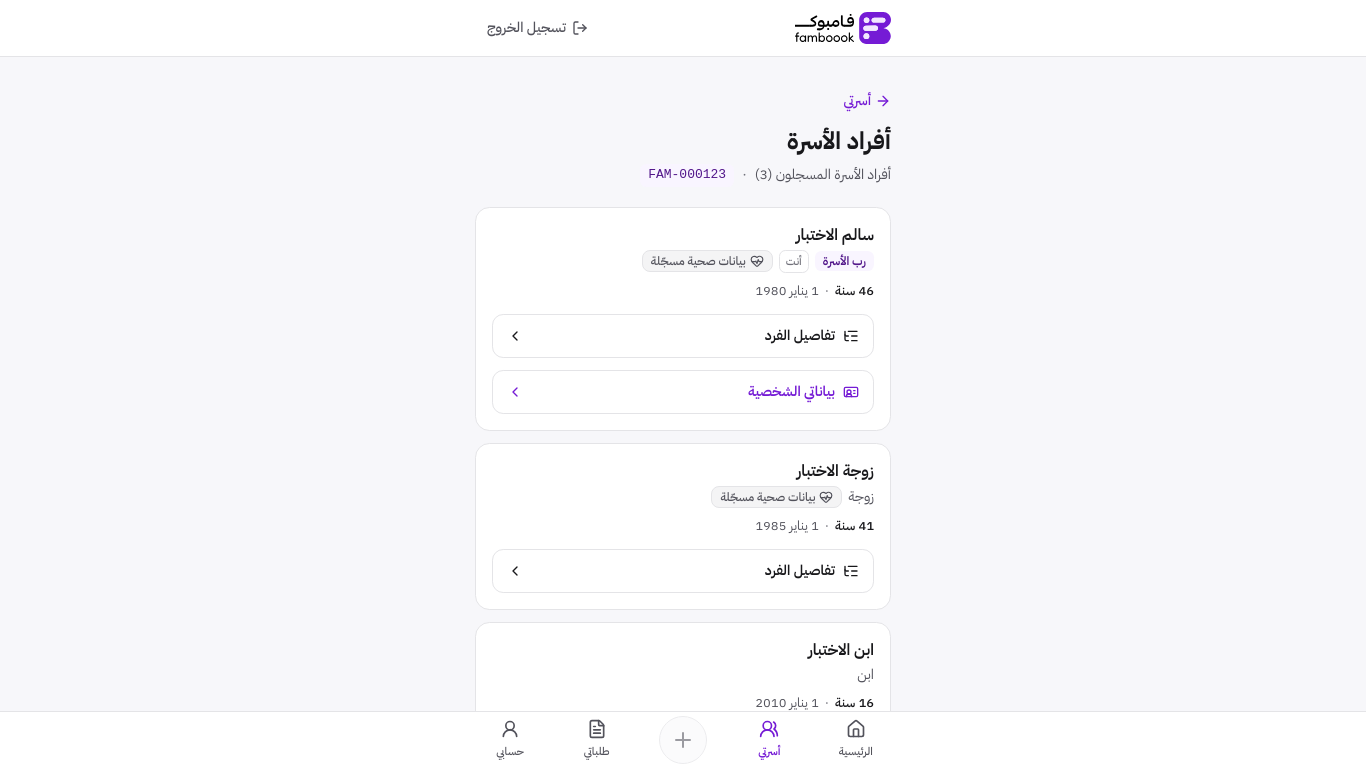
Test: the member sheet «الحالة الصحية» › shows the section after the basic data, in the applicable sub-groups only
Click the button "تفاصيل الفرد" below "زوجة الاختبار". click: (800,570)
box: [492,549,874,593]
(page scrolled)
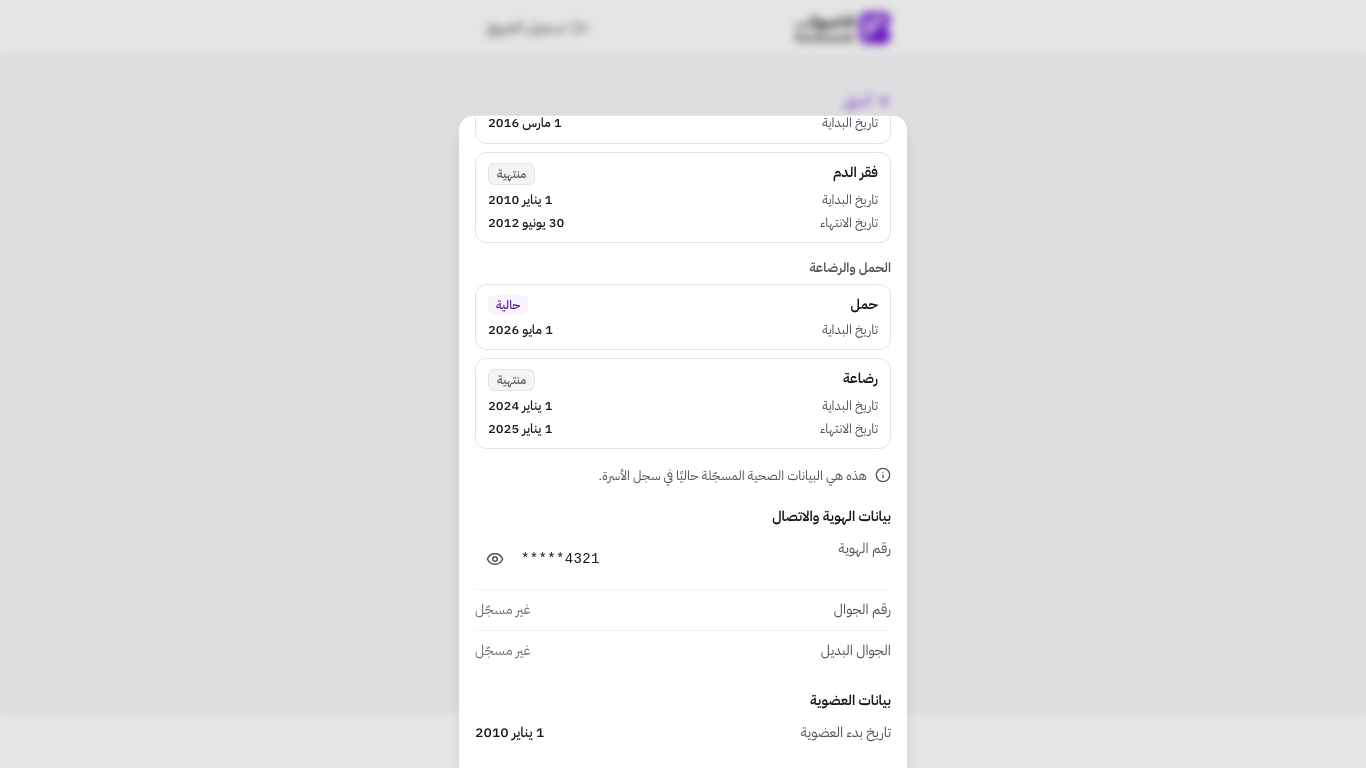
Expected: the heading "الحمل والرضاعة" is shown, [809,258,891,277]
Expected: the text "هذه هي البيانات الصحية المسجّلة حاليًا في سجل الأسرة." is shown, [598,466,891,485]
